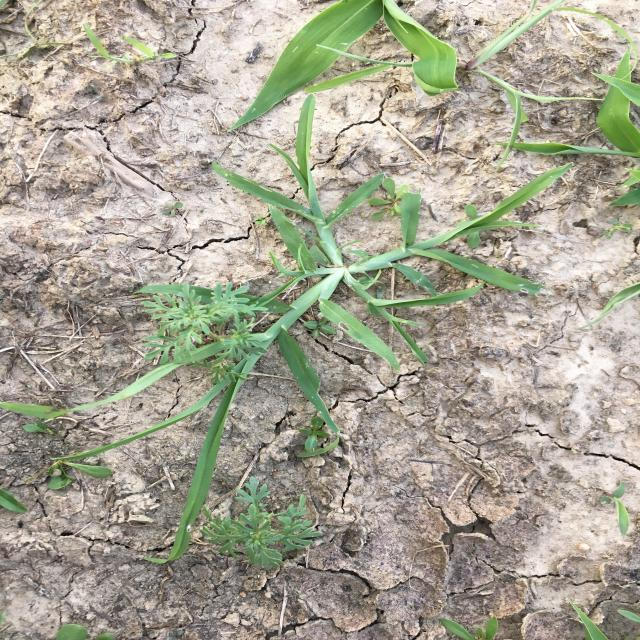Goosegrass: (3, 92, 577, 566)
Ragweed: (137, 280, 273, 387), (196, 473, 326, 572)
